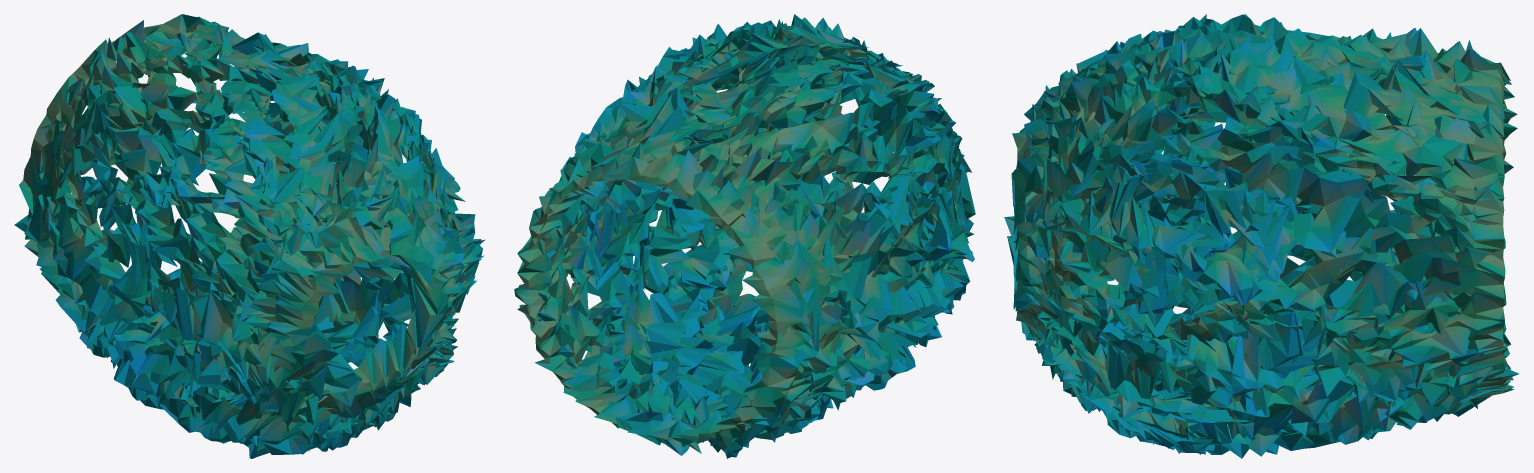
Rendered from lamp_shade_14_final100.obj.
3 views of the same model, side by side, from view 1: azimuth 30°, elevation 25°; view 2: azimuth 150°, elevation 25°; view 3: azimuth 270°, elevation 25° (orthographic). The views are drawn at different scales.
Size of the model in its own units: 1.36 by 1.35 by 1.58.
